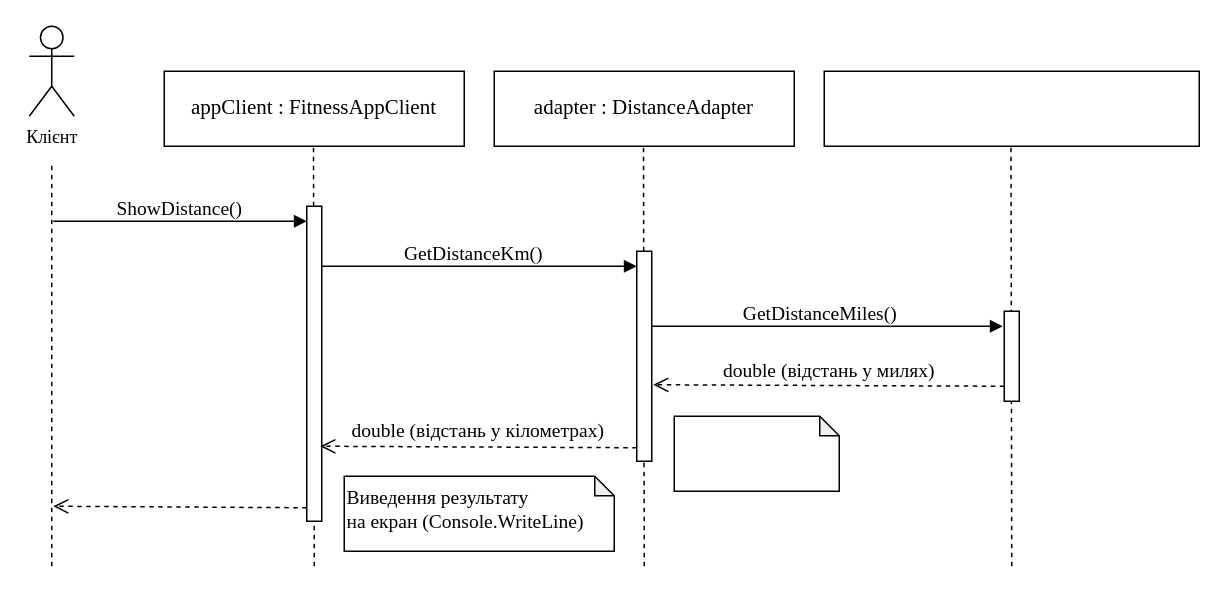
Some shapes in this 1226 by 594 pixel diagram are drawn without their labels. The shapes that lost their labels are listed below. From the top down, each one's centre as x and y in pixels, then its label:
the point at 1011,108: externalTracker : ExternalTracker
the point at 756,453: Конвертація: miles * 1.609344
